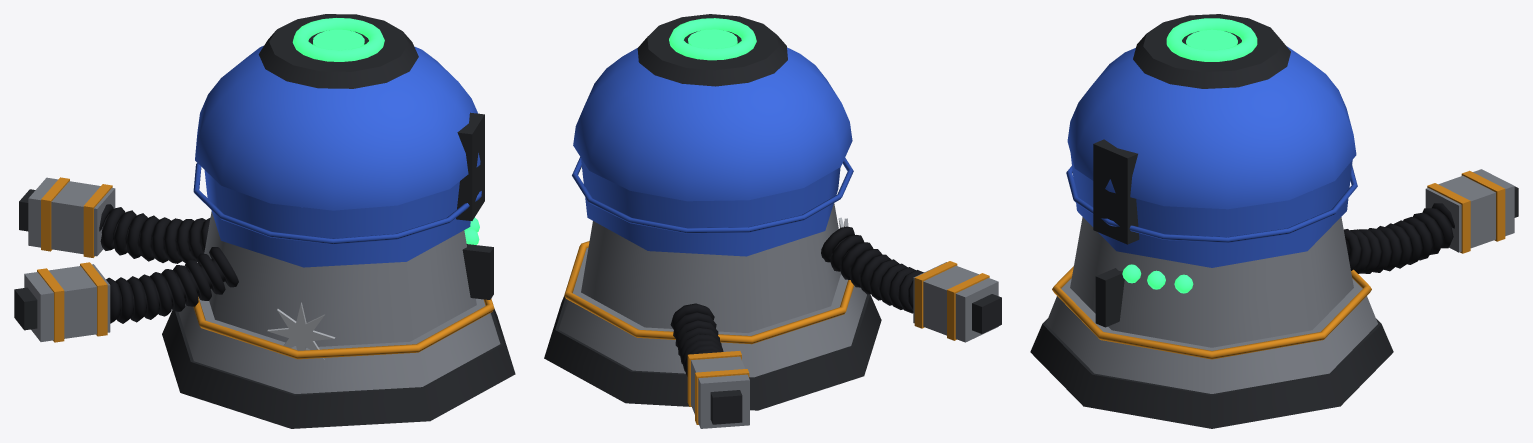
Rendered from reactor.glb.
3 renders of one model, left to right at view 1: azimuth 30°, elevation 25°; view 2: azimuth 150°, elevation 25°; view 3: azimuth 270°, elevation 25°, orthographic. The views are drawn at different scales.
Size of the model in its own units: 3.09 by 2.03 by 2.82.
